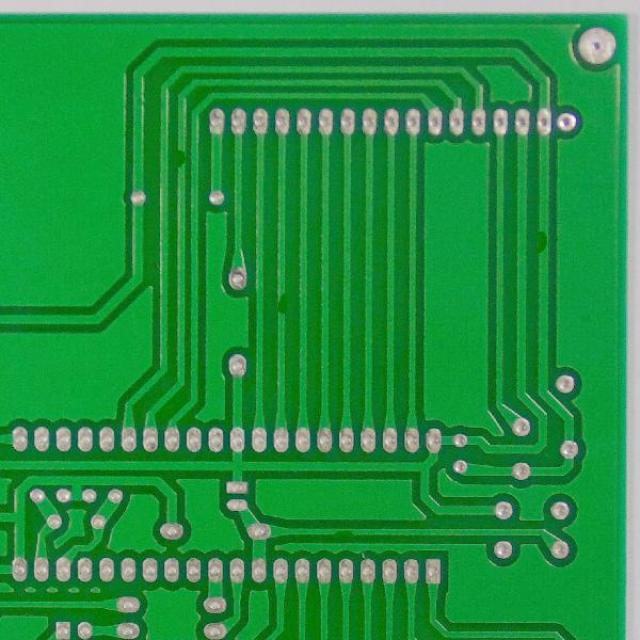MouseBite: (532, 223, 552, 262), (272, 285, 291, 325), (328, 522, 358, 538), (175, 143, 189, 173)
